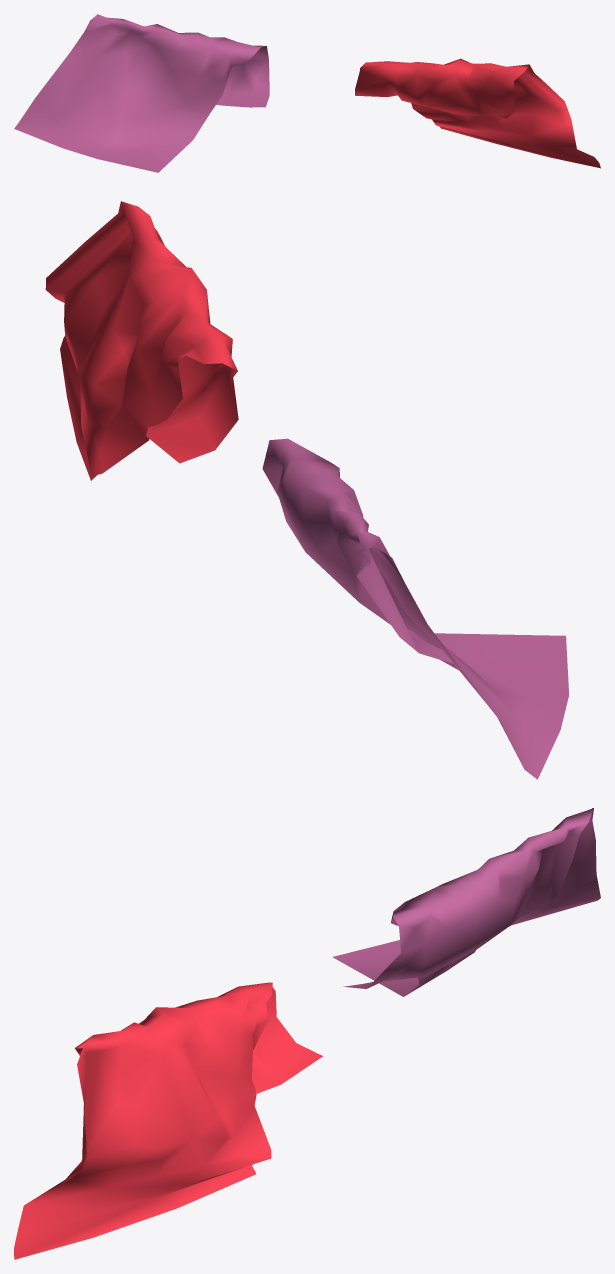
Rendered from Dress_2.fbx.
The picture shows the model from 3 angles, top to bottom: view 1: azimuth 30°, elevation 25°; view 2: azimuth 150°, elevation 25°; view 3: azimuth 270°, elevation 25°; orthographic projection. The views are drawn at different scales.
Visible parts, largest first — view 1: Dress_2; view 2: Dress_2; view 3: Dress_2.
Boxes of the visible parts, x1,y1,x2,y2 form: Dress_2: (14,14,600,172); Dress_2: (45,201,568,779); Dress_2: (14,808,600,1259).
Bounding box in the file's own units: 99.01 × 24.82 × 72.7.
